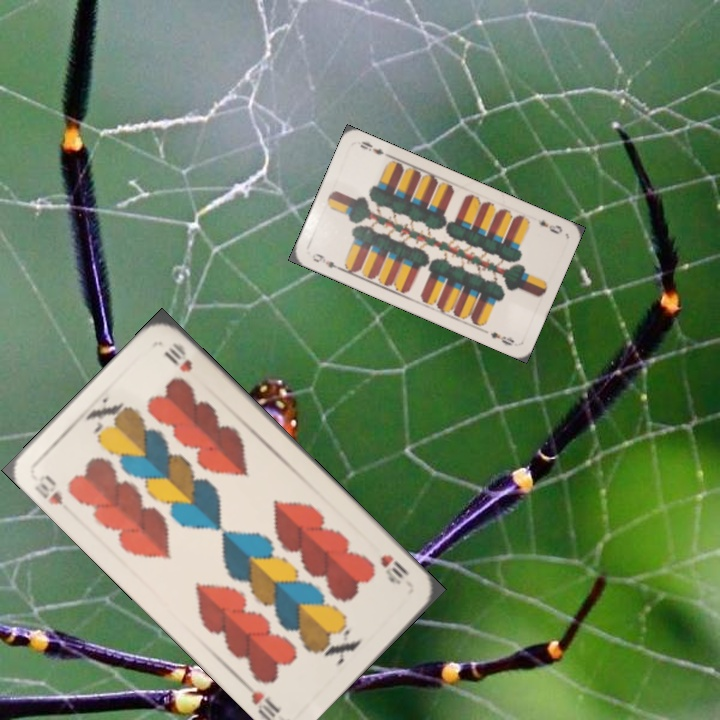E9: (308, 249, 345, 273), (534, 215, 565, 237)
H10: (30, 470, 66, 508), (376, 550, 411, 588)
